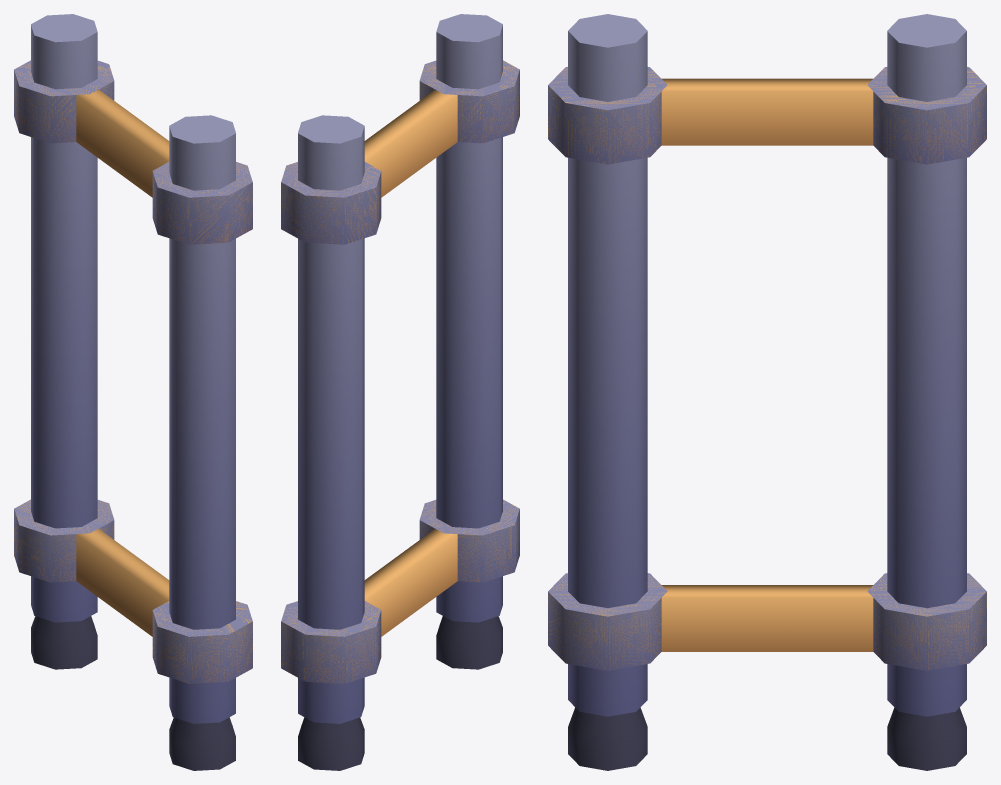
The model's file is kenney-factory-structure-yellow-tall.glb.
3 renders of one model, left to right at view 1: azimuth 30°, elevation 25°; view 2: azimuth 150°, elevation 25°; view 3: azimuth 270°, elevation 25°, orthographic. The views are drawn at different scales.
Parts seen in each view (by area): view 1: structure-yellow-tall; view 2: structure-yellow-tall; view 3: structure-yellow-tall.
Boxes of the visible parts, x1,y1,x2,y2 form: structure-yellow-tall: (14,14,252,770); structure-yellow-tall: (281,14,519,770); structure-yellow-tall: (548,14,986,770).
Size of the model in its own units: 0.45 by 3 by 1.65.
1 material, 1 textured.
